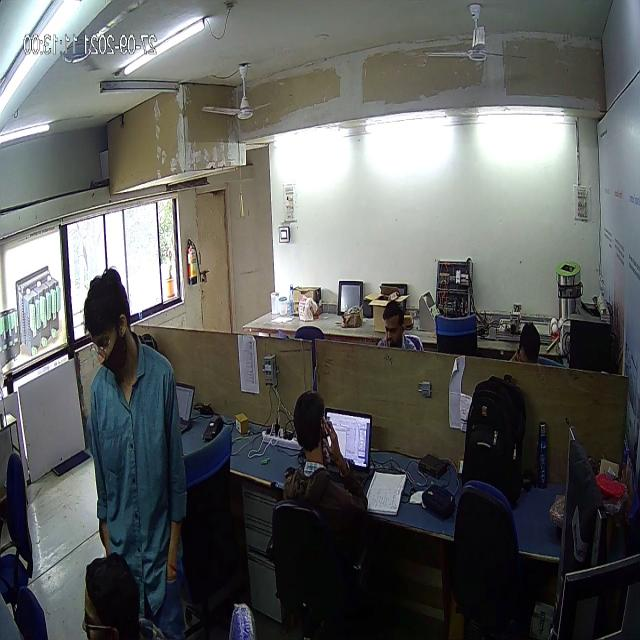adult: (62, 244, 192, 640)
